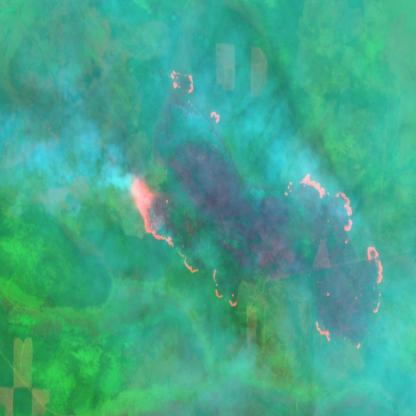fire: (296, 169, 384, 351), (128, 175, 240, 312), (163, 67, 224, 125)
